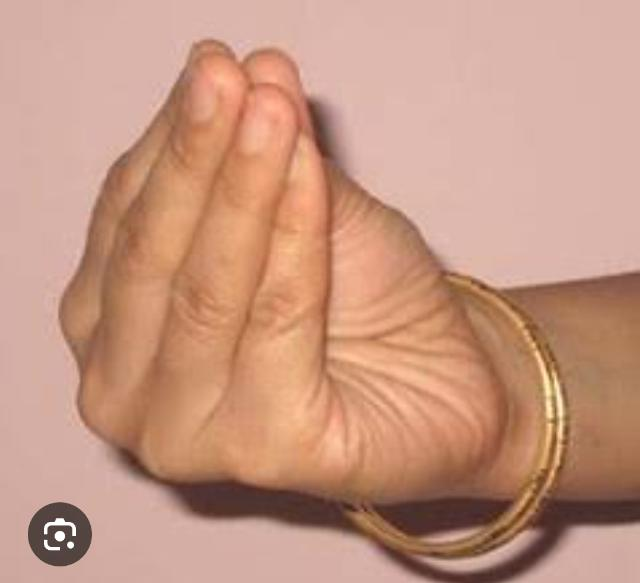mukul: (58, 39, 574, 563)
